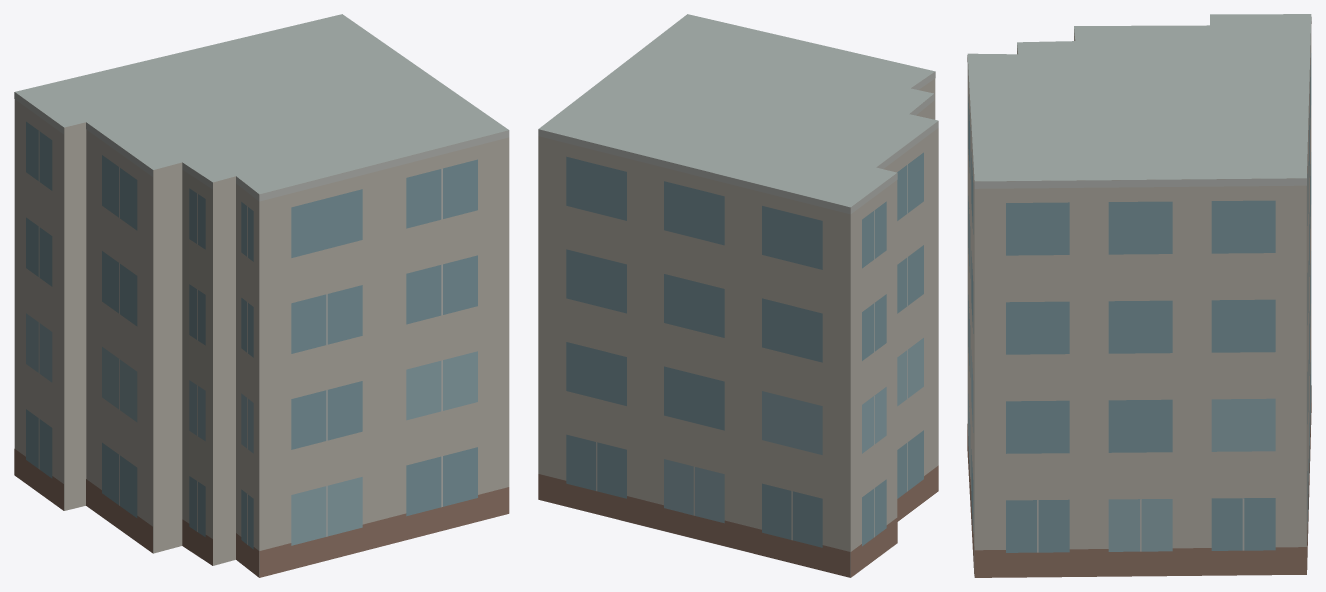
The model's file is survey-upis-32588502.glb.
3 renders of one model, left to right at view 1: azimuth 30°, elevation 25°; view 2: azimuth 150°, elevation 25°; view 3: azimuth 270°, elevation 25°, orthographic. The views are drawn at different scales.
Parts seen in each view (by area): view 1: survey-upis-32588502.tmp; view 2: survey-upis-32588502.tmp; view 3: survey-upis-32588502.tmp.
Part boxes in pixels (<box>): survey-upis-32588502.tmp: <box>14,14,509,577</box>; survey-upis-32588502.tmp: <box>538,14,938,577</box>; survey-upis-32588502.tmp: <box>967,14,1311,577</box>.
Bounding box in the file's own units: 11.78 × 13 × 10.23.
